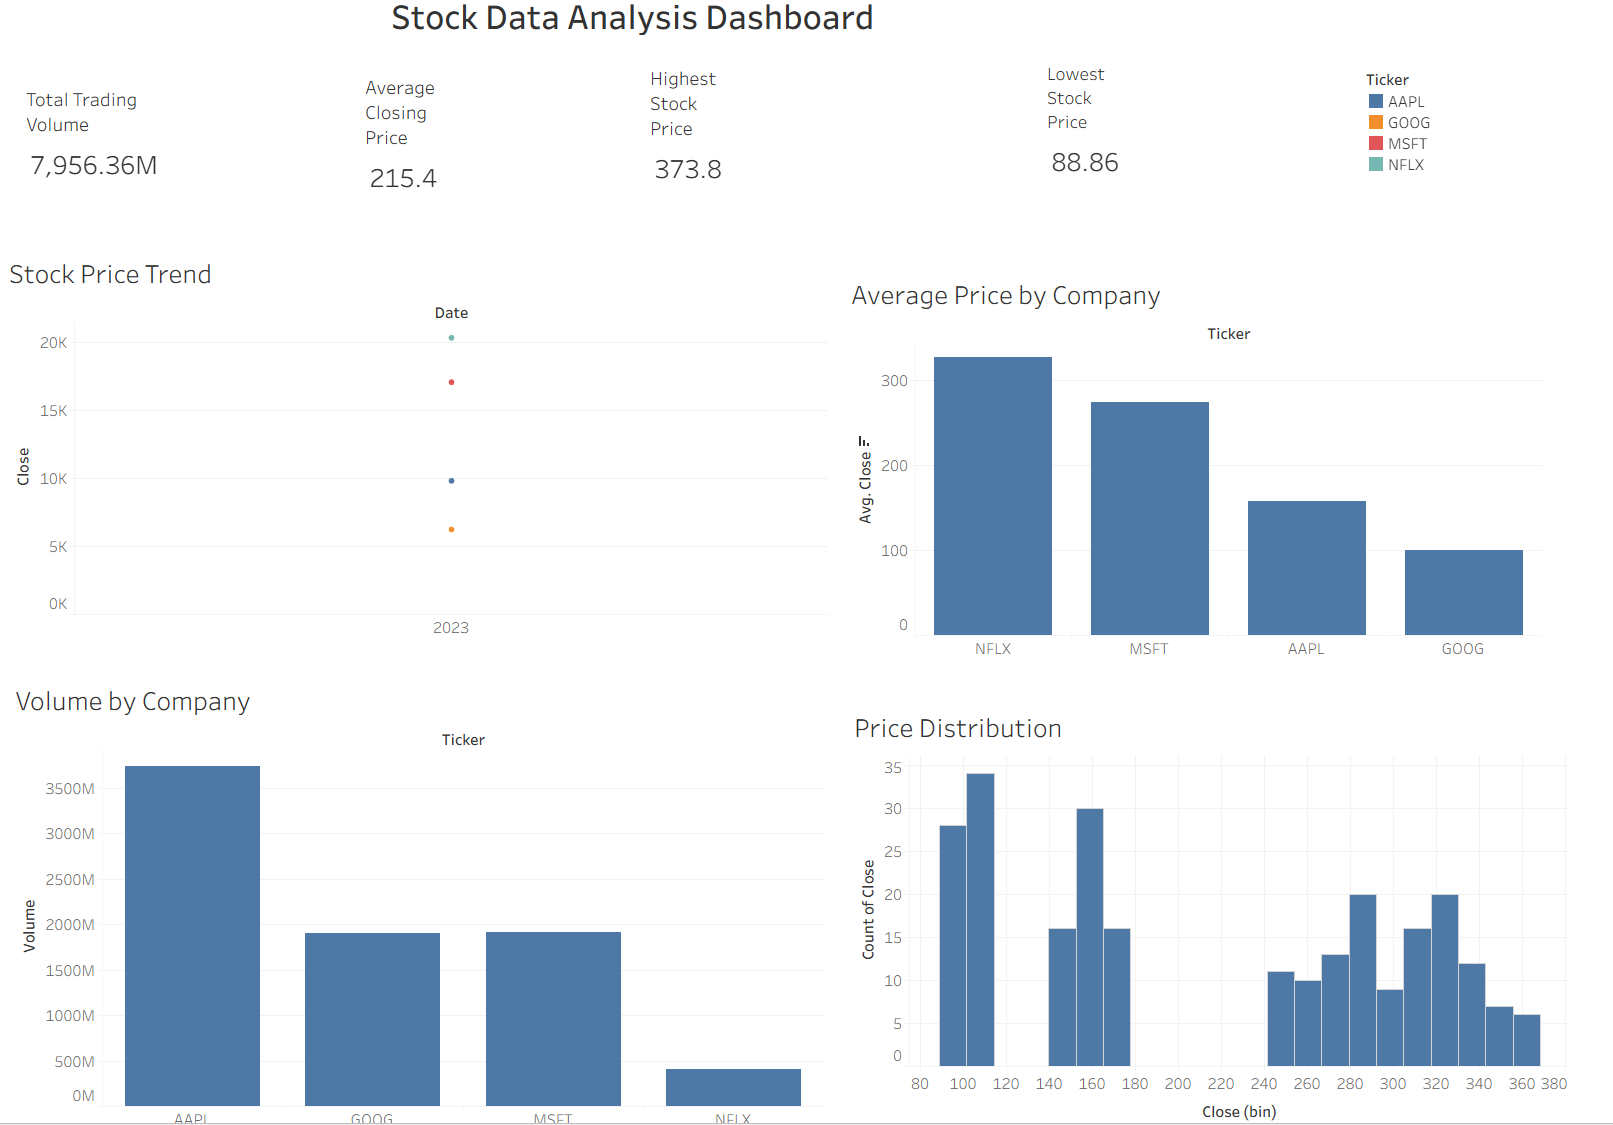

What the dashboard file says about the page in this screenshot:
{"tool":"tableau","page":{"name":"Stock Data Analysis Dashboard","canvas":[1000,1000],"units":"permille","ordinal":0},"visuals":[{"type":"title","box":[4.8,8.2,990.3,49.4]},{"type":"worksheet","title":"Lowest Stock Price","mark":"Automatic","box":[551.6,63.9,233.6,135.9]},{"type":"worksheet","title":"Highest Stock Price","mark":"Automatic","box":[344.6,66.9,275.2,139]},{"type":"legend","title":"Stock Price Trend","param":"[federated.0orivzj0npxh6p13zfaan02uzajn].[none:Ticker:nk]","box":[720,74.2,84.5,109.2]},{"type":"worksheet","title":"Average Closing Price","mark":"Automatic","box":[196.1,75.2,228.1,137]},{"type":"worksheet","title":"Total Trading Volume","mark":"Automatic","box":[19.9,85.5,199.8,153.5]},{"type":"worksheet","title":"Stock Price Trend","mark":"Line","rows":["Close"],"cols":["Date"],"box":[10.9,231.7,428.5,332.7]},{"type":"worksheet","title":"Average Price by Company","mark":"Automatic","rows":["Close"],"cols":["Ticker"],"box":[449.6,249.2,362.1,332.7]},{"type":"worksheet","title":"Volume by Company","mark":"Bar","rows":["Volume"],"cols":["Ticker"],"box":[13.9,598.4,423.7,388.3]},{"type":"worksheet","title":"Price Distribution","mark":"Automatic","rows":["Close"],"cols":["Close (bin)"],"box":[450.8,622,374.8,363.5]}]}

Visuals, with their boxes on the dashboard's canvas, which has no fixed pixel size, in thousandths of its width and height (x1, y1, x2, y2). These are canvas units, not pixel positions in the 1613x1125 screenshot, which may show the page scaled, cropped or inside an application window:
title: bbox=[5, 8, 995, 58]
"Lowest Stock Price" worksheet: bbox=[552, 64, 785, 200]
"Highest Stock Price" worksheet: bbox=[345, 67, 620, 206]
"Stock Price Trend" legend: bbox=[720, 74, 804, 183]
"Average Closing Price" worksheet: bbox=[196, 75, 424, 212]
"Total Trading Volume" worksheet: bbox=[20, 86, 220, 239]
"Stock Price Trend" worksheet (Line marks): bbox=[11, 232, 439, 564]
"Average Price by Company" worksheet: bbox=[450, 249, 812, 582]
"Volume by Company" worksheet (Bar marks): bbox=[14, 598, 438, 987]
"Price Distribution" worksheet: bbox=[451, 622, 826, 986]
